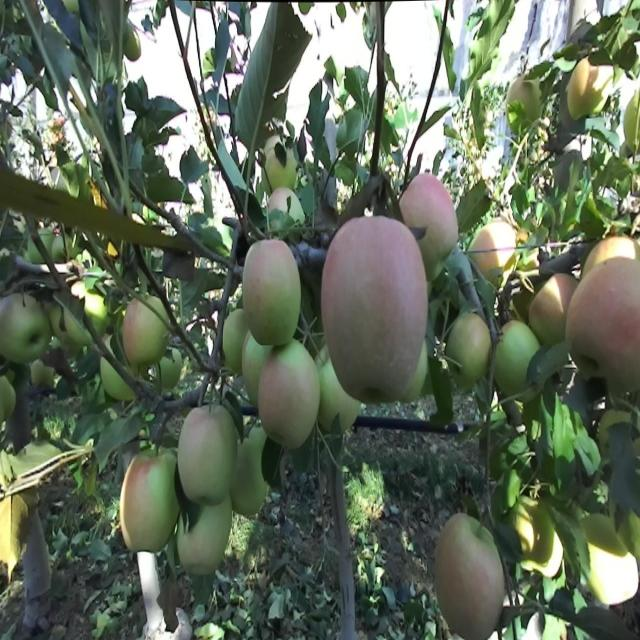apple: (240, 234, 303, 350), (260, 342, 320, 453), (120, 454, 180, 556), (178, 404, 237, 507), (404, 170, 460, 267), (176, 504, 232, 581), (320, 356, 368, 437), (400, 170, 452, 242), (588, 532, 634, 613), (120, 298, 168, 375), (532, 269, 576, 348), (452, 312, 493, 396), (472, 220, 519, 290), (0, 298, 47, 368), (516, 504, 559, 580), (568, 56, 611, 124), (496, 326, 533, 404), (0, 490, 34, 574), (0, 497, 28, 572), (232, 465, 269, 519), (568, 63, 599, 124), (508, 77, 543, 130), (244, 333, 273, 396), (536, 525, 567, 583), (512, 504, 539, 565), (620, 77, 640, 155), (104, 364, 136, 407), (268, 148, 299, 192), (84, 291, 109, 332), (124, 28, 143, 64)
